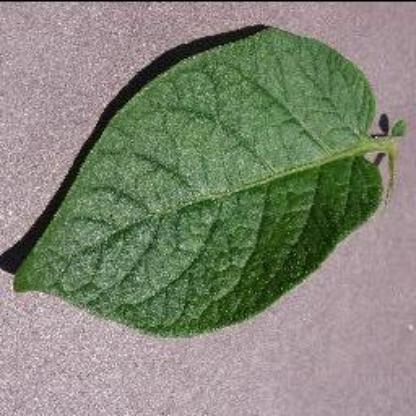Healthy-plant: (24, 20, 406, 356)
